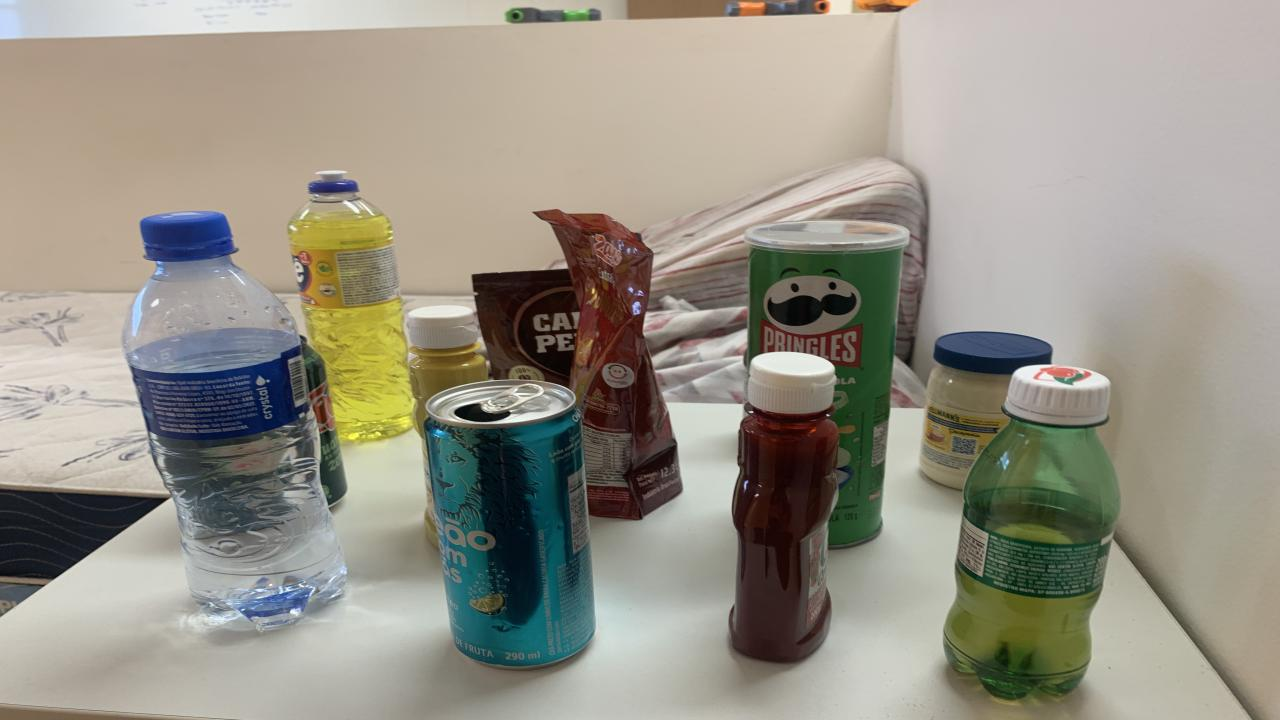Coffee-Pantry_Items: (472, 268, 580, 386)
Detergent-Cleanup_Items: (288, 171, 410, 441)
Guarana-Drinks: (945, 362, 1120, 699)
Guarana_Can-Drinks: (300, 336, 348, 506)
Ketchup-Pantry_Items: (730, 352, 838, 662)
Mayonnaise-Pantry_Items: (920, 332, 1052, 489)
Mustard-Pantry_Items: (408, 306, 488, 439), (425, 454, 438, 546)
Pringles-Snacks: (745, 221, 910, 546)
Tea-Drinks: (422, 381, 595, 668)
Tomato_Sauce-Pantry_Items: (538, 210, 682, 519)
Water_Bottle-Drinks: (122, 212, 345, 628)
